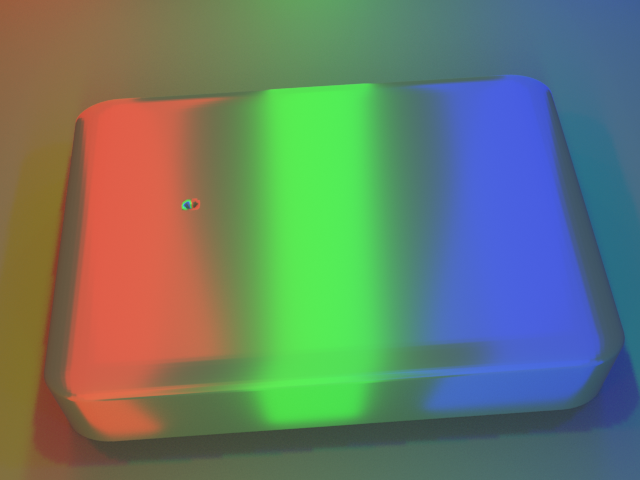dent: (157, 185, 197, 230)
